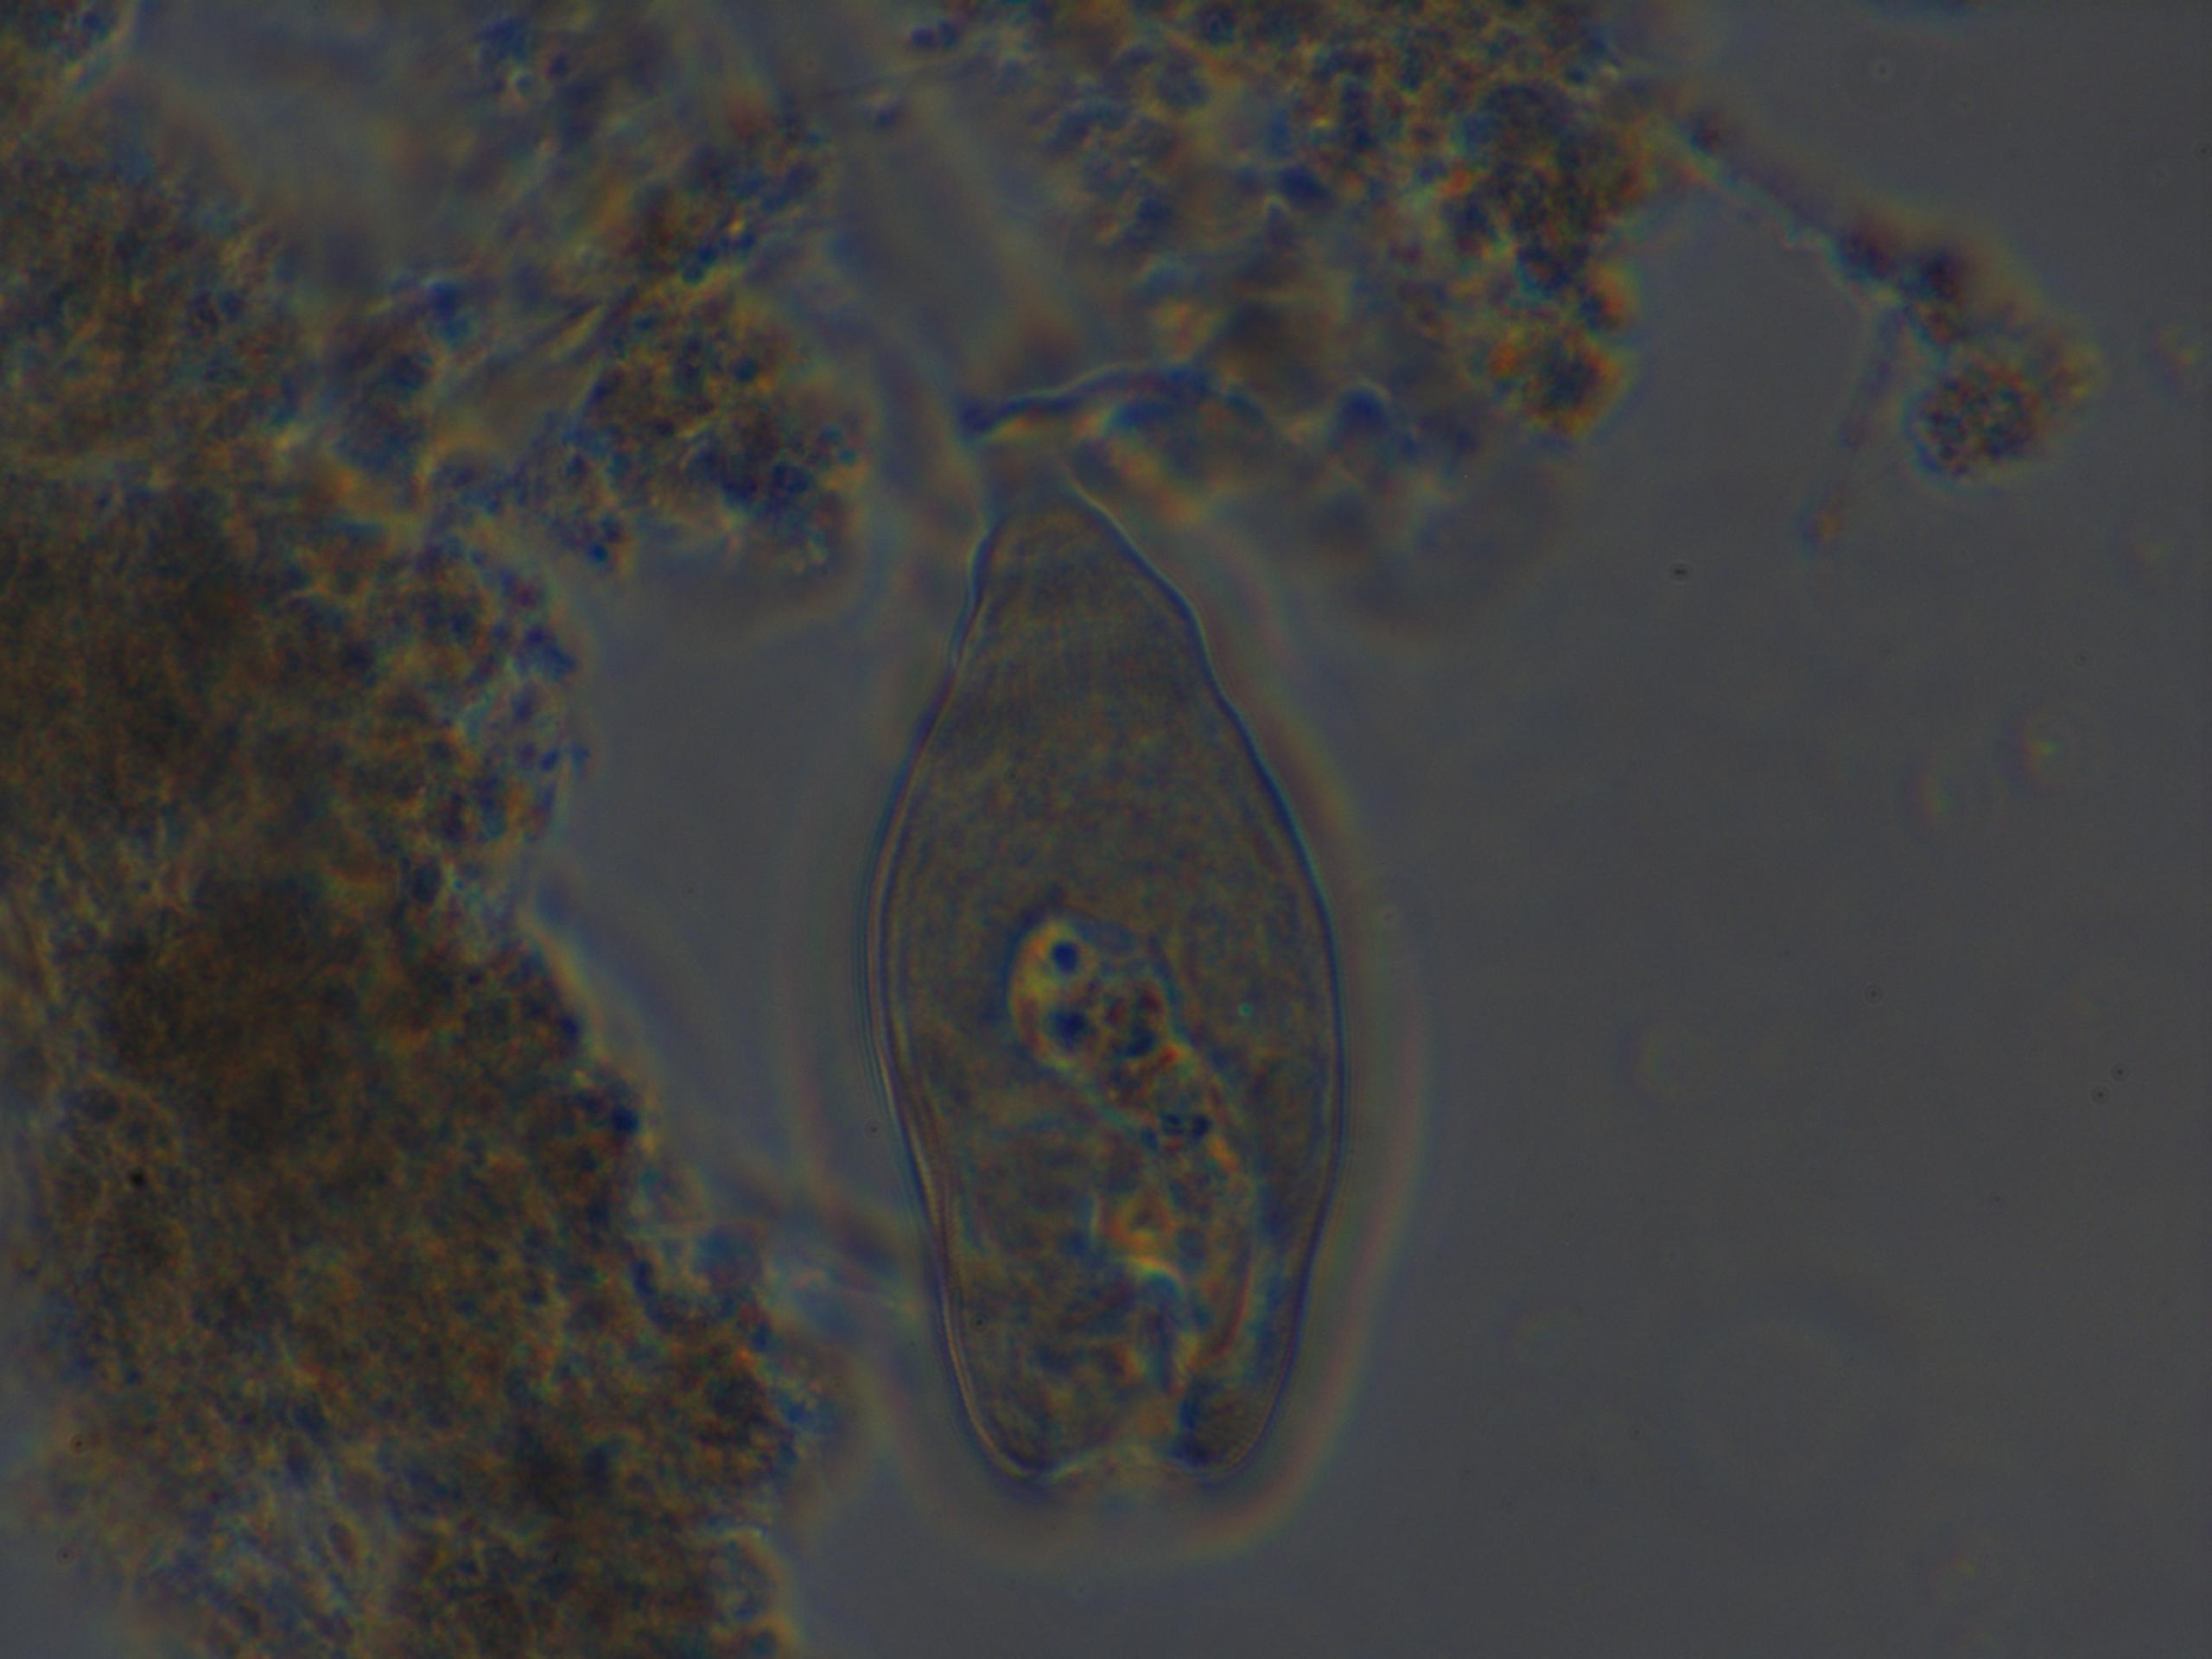filament: (1677, 112, 2073, 467)
